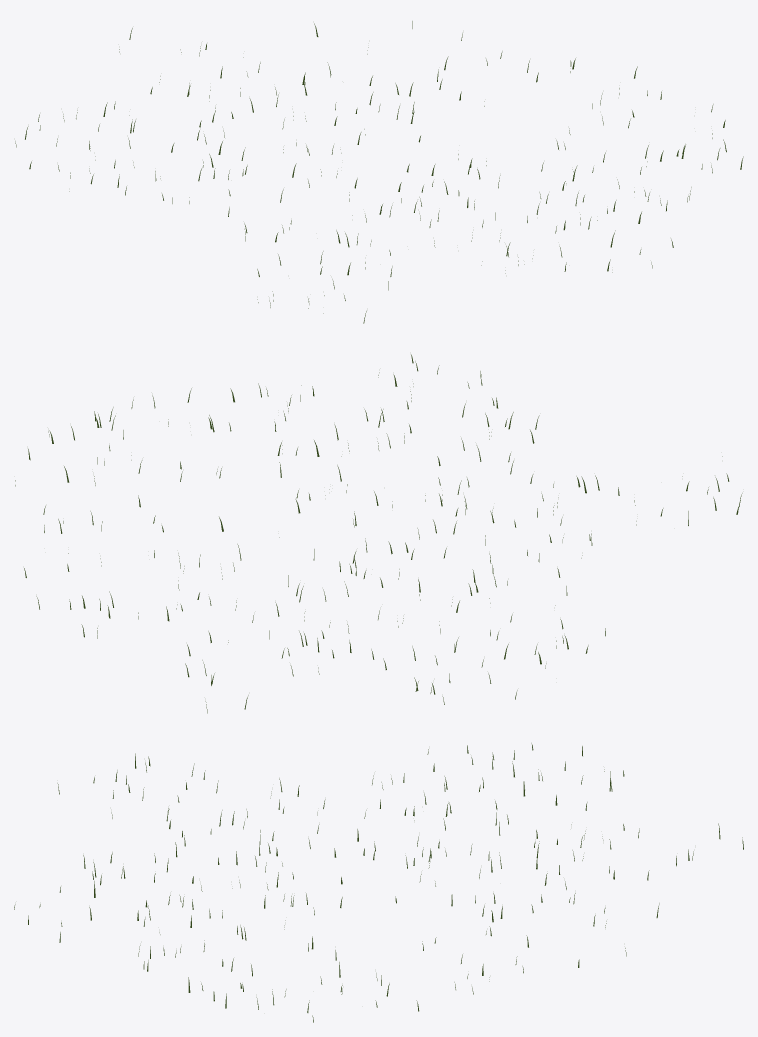
3 views of the same model, one above another, from view 1: azimuth 30°, elevation 25°; view 2: azimuth 150°, elevation 25°; view 3: azimuth 270°, elevation 25° (orthographic). The views are drawn at different scales.
Visible parts, largest first — view 1: GrassPatch; view 2: GrassPatch; view 3: GrassPatch.
Part boxes in pixels (<box>): GrassPatch: <box>15,21,743,323</box>; GrassPatch: <box>15,354,742,713</box>; GrassPatch: <box>14,743,743,1022</box>.
Size of the model in its own units: 16.64 by 0.4888 by 18.77.
